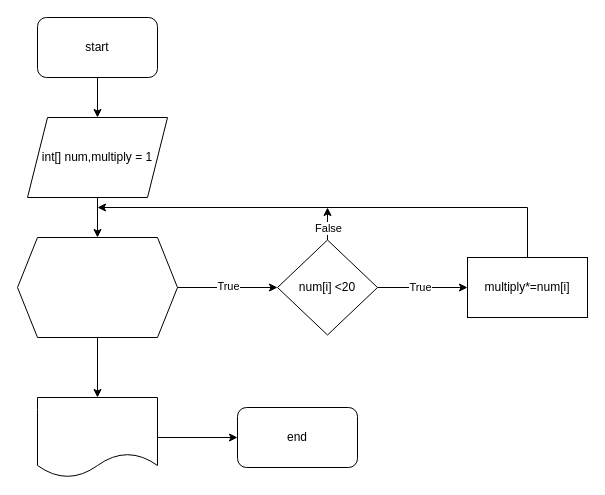
This 605x495 diagram has some shape labels left out. Here are the shapes that lost their labels. From the top down, the centre of each, then its label:
At (x=97, y=287): "int i = 0;i<num.Length;i++".
At (x=97, y=437): "multiply".
